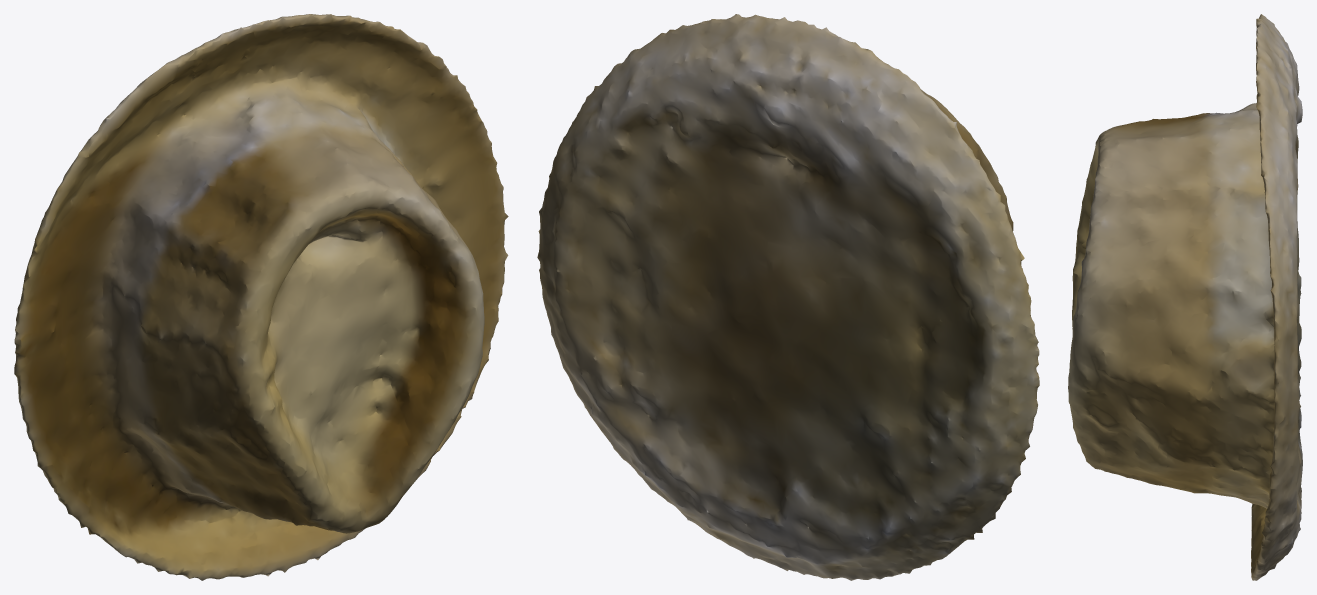
The model's file is hat.glb.
3 renders of one model, left to right at view 1: azimuth 30°, elevation 25°; view 2: azimuth 150°, elevation 25°; view 3: azimuth 270°, elevation 25°, orthographic. The views are drawn at different scales.
Bounding box in the file's own units: 0.9353 × 0.9971 × 0.4093.
